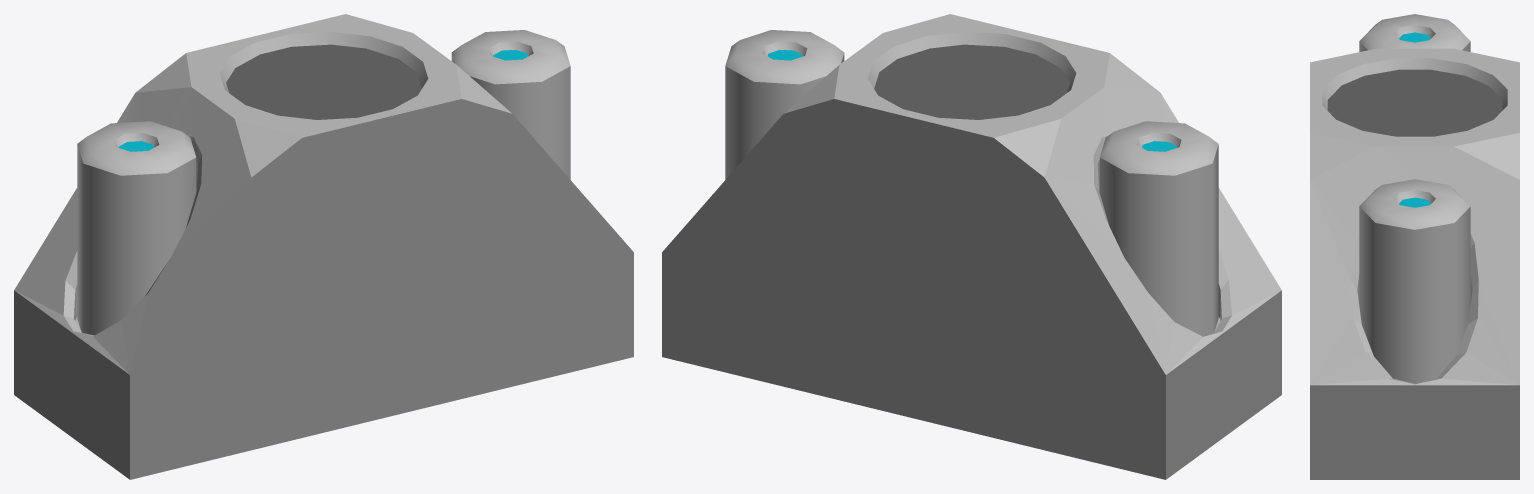
The model's file is space_station_decoration_012.fbx.
3 views of the same model, side by side, from view 1: azimuth 30°, elevation 25°; view 2: azimuth 150°, elevation 25°; view 3: azimuth 270°, elevation 25° (orthographic). The views are drawn at different scales.
Parts seen in each view (by area): view 1: space_station_decoration_012; view 2: space_station_decoration_012; view 3: space_station_decoration_012.
Part boxes in pixels (x1,y1,x2,y2): space_station_decoration_012: [14, 14, 633, 479]; space_station_decoration_012: [662, 14, 1281, 479]; space_station_decoration_012: [1310, 14, 1519, 479].
Bounding box in the file's own units: 716 × 286 × 408.
